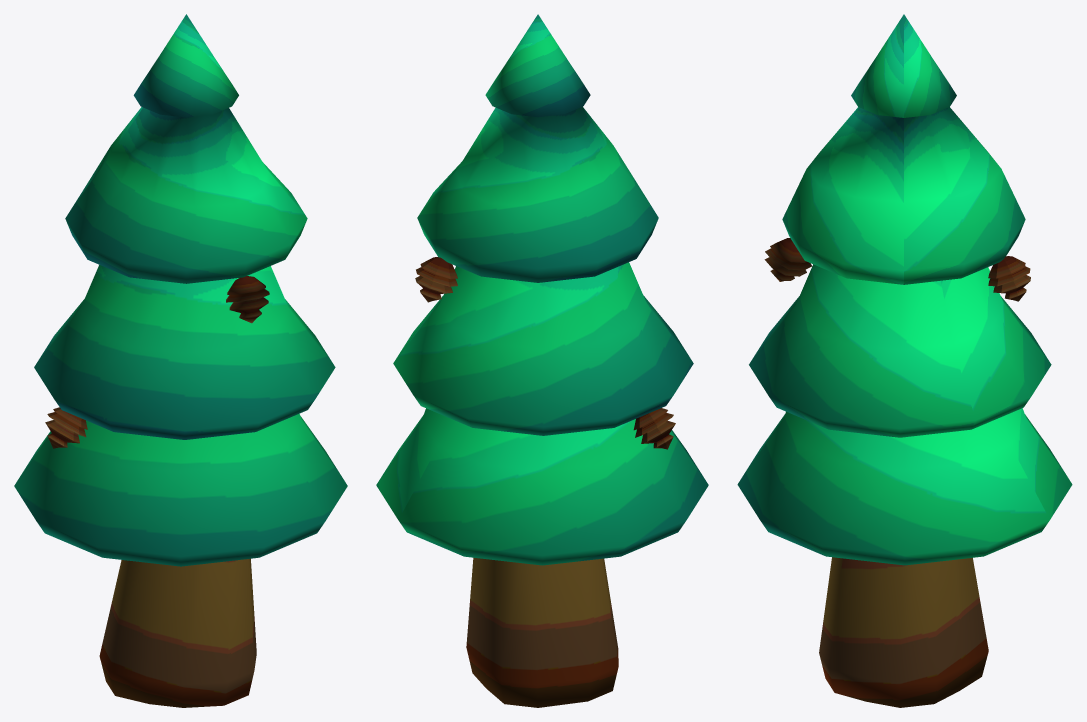
Rendered from Tree_Spruce3.FBX.
The picture shows the model from 3 angles, left to right: view 1: azimuth 30°, elevation 25°; view 2: azimuth 150°, elevation 25°; view 3: azimuth 270°, elevation 25°; orthographic projection.
Visible parts, largest first — view 1: Tree_Spruce2; view 2: Tree_Spruce2; view 3: Tree_Spruce2.
Part boxes in pixels (x1,y1,x2,y2): Tree_Spruce2: [14, 14, 347, 707]; Tree_Spruce2: [376, 14, 708, 707]; Tree_Spruce2: [737, 14, 1072, 707].
Size of the model in its own units: 224 by 500 by 224.
